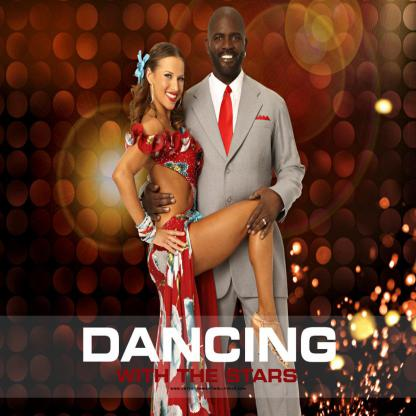face: (210, 13, 245, 76), (157, 56, 183, 113)
